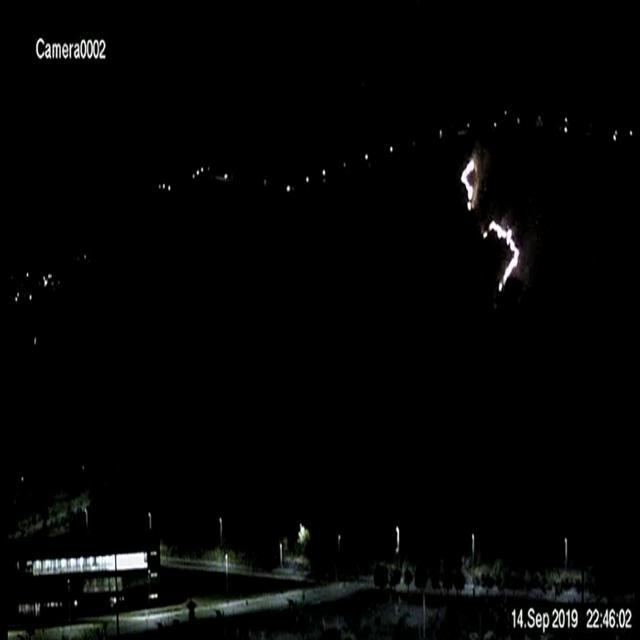Fire: (480, 220, 520, 292), (459, 151, 482, 211)
